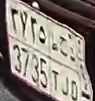3: (10, 8, 22, 73), (30, 15, 39, 84)
5: (39, 25, 49, 90)
7: (21, 10, 31, 77)
D: (70, 46, 78, 101)
J: (59, 34, 70, 96)
T: (51, 31, 60, 91)
